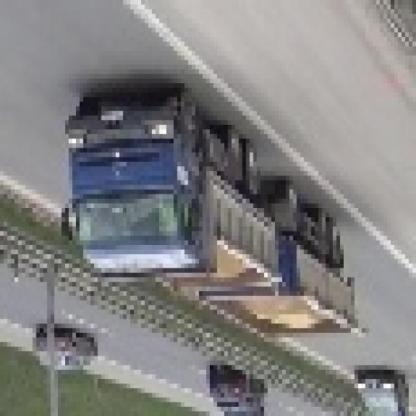truck: (59, 89, 356, 343)
